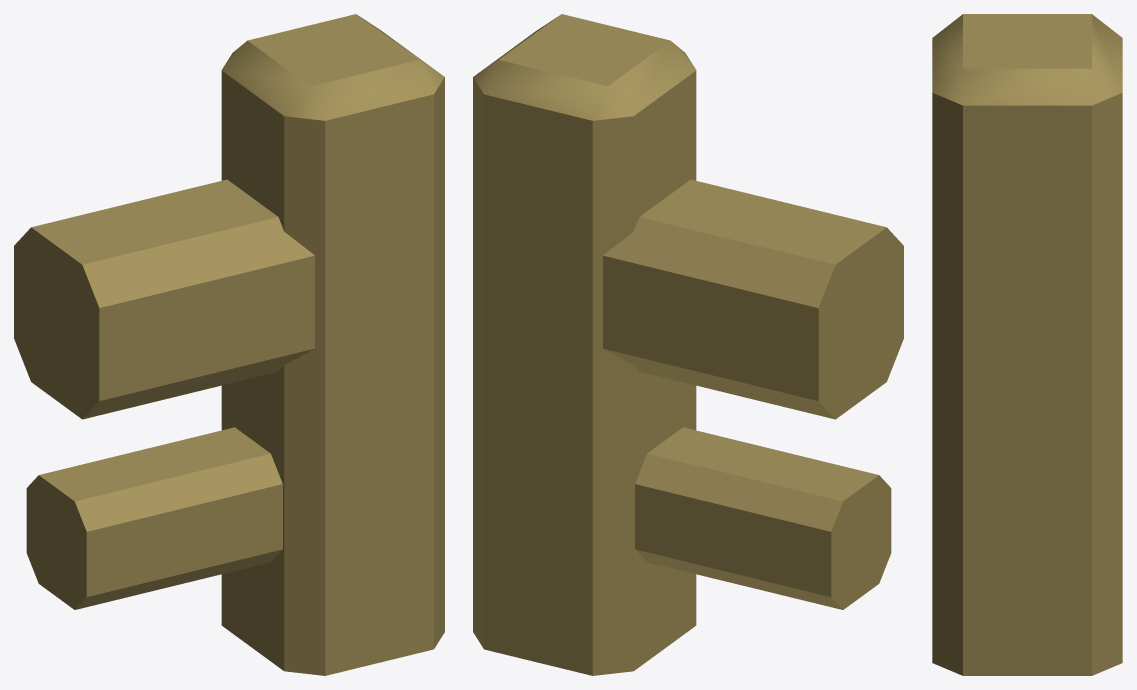
Rendered from quaternius-cube-world-fence-end.glb.
3 views of the same model, side by side, from view 1: azimuth 30°, elevation 25°; view 2: azimuth 150°, elevation 25°; view 3: azimuth 270°, elevation 25° (orthographic). The views are drawn at different scales.
Parts seen in each view (by area): view 1: Fence_End; view 2: Fence_End; view 3: Fence_End.
Boxes of the visible parts, x1,y1,x2,y2 form: Fence_End: (14, 14, 444, 675); Fence_End: (473, 14, 903, 675); Fence_End: (932, 14, 1122, 675).
Size of the model in its own units: 1.29 by 2 by 0.5811.
Materials: 1 (1 with a texture image).
